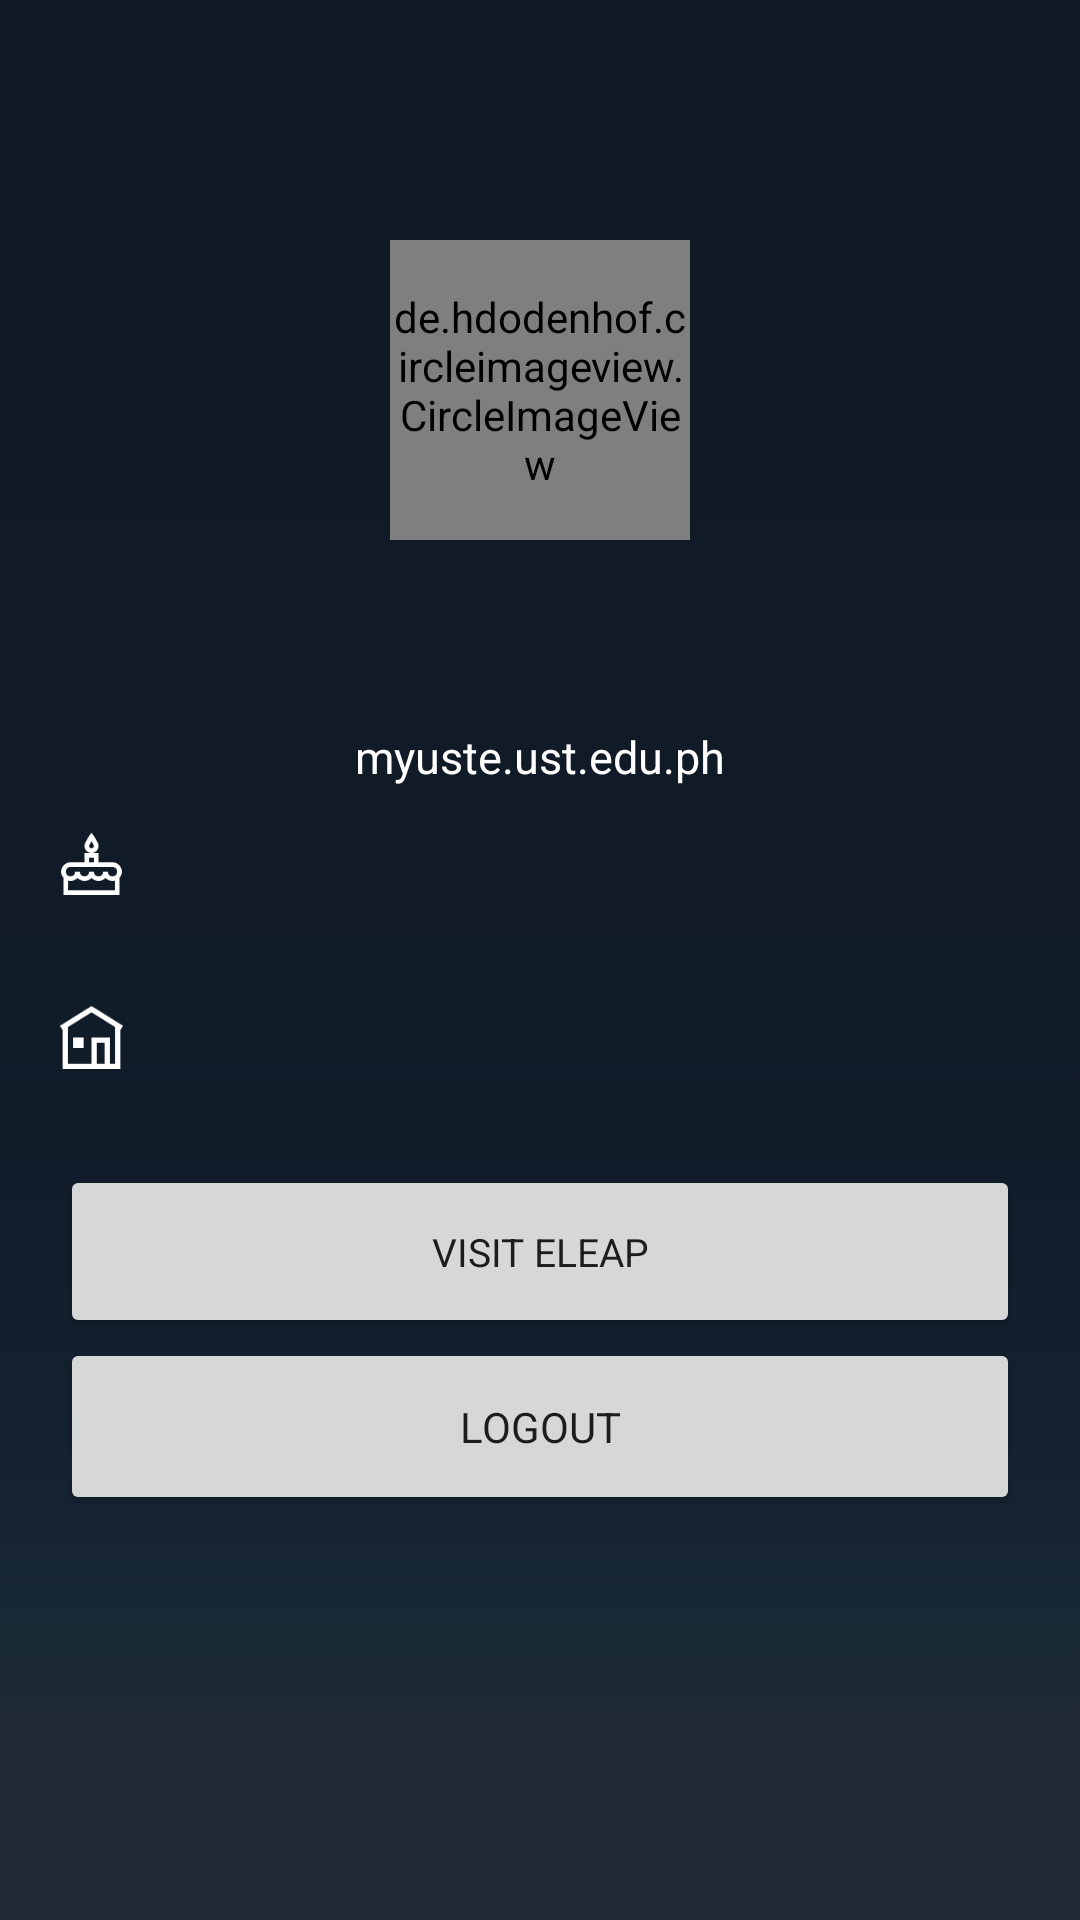

Where to tap for icons on this 1080w x 1920h app screen, as point (x, y):
address: point (91, 1037)
birthday: point (91, 864)
